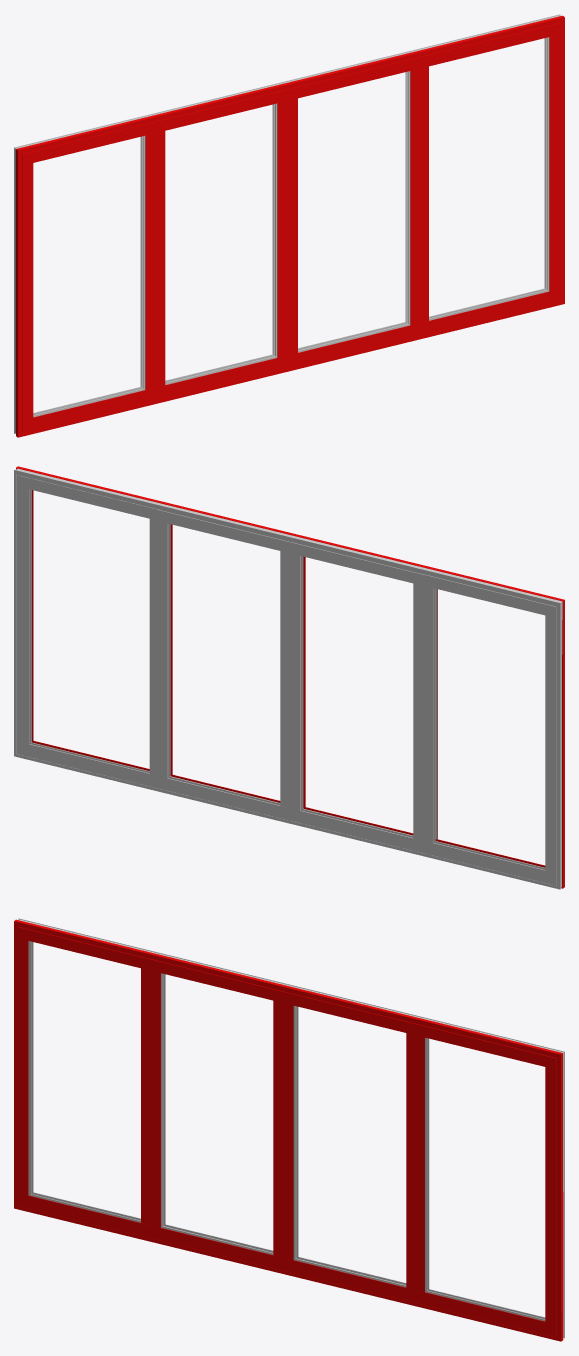
File: 4_windows.glb
The picture shows the model from 3 angles, top to bottom: view 1: azimuth 30°, elevation 25°; view 2: azimuth 150°, elevation 25°; view 3: azimuth 330°, elevation 25°; orthographic projection.
Visible parts, largest first — view 1: 3DGeom-1, 3DGeom-3; view 2: 3DGeom-3, 3DGeom-1; view 3: 3DGeom-1, 3DGeom-3.
Part boxes in pixels (<box>): 3DGeom-1: <box>16,15,564,437</box>; 3DGeom-3: <box>14,14,560,433</box>; 3DGeom-3: <box>14,468,562,889</box>; 3DGeom-1: <box>16,466,564,888</box>; 3DGeom-1: <box>14,919,563,1341</box>; 3DGeom-3: <box>18,918,564,1338</box>.
Size of the model in its own units: 3.31 by 1.66 by 0.0537.
